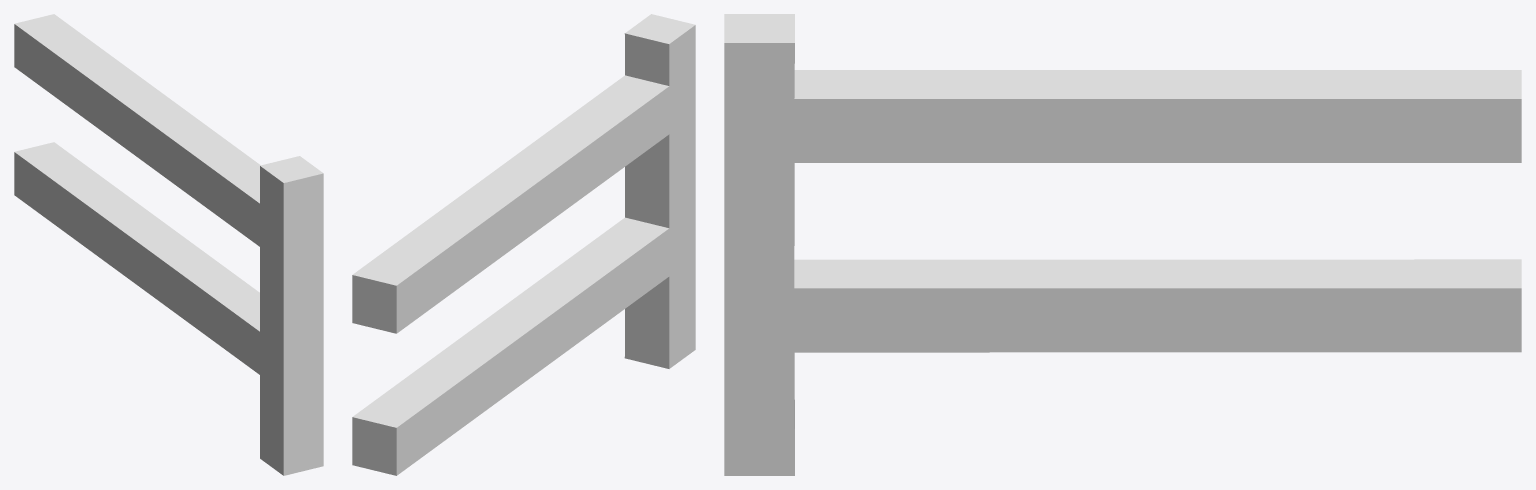
The model's file is wall.fbx.
3 renders of one model, left to right at view 1: azimuth 30°, elevation 25°; view 2: azimuth 150°, elevation 25°; view 3: azimuth 270°, elevation 25°, orthographic. The views are drawn at different scales.
Parts seen in each view (by area): view 1: wall; view 2: wall; view 3: wall.
Part boxes in pixels (bbox=[...]): wall: bbox=[14, 14, 323, 475]; wall: bbox=[352, 14, 695, 475]; wall: bbox=[724, 14, 1521, 475].
Bounding box in the file's own units: 17.18 × 120 × 200.
